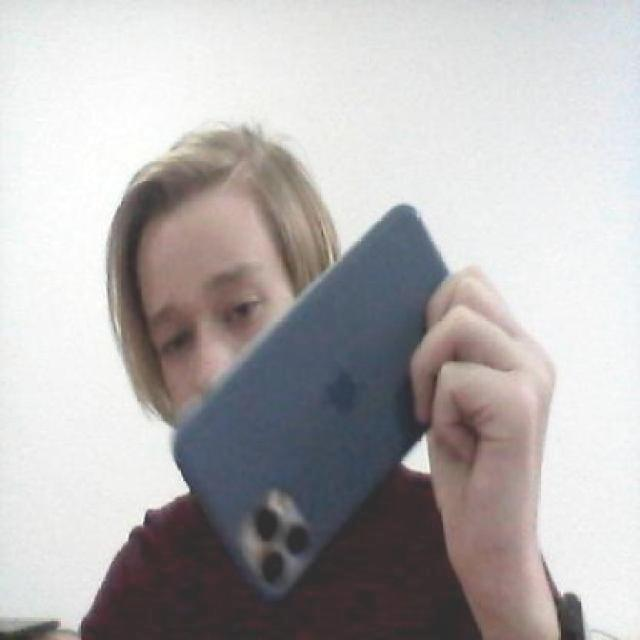lens: (246, 494, 314, 588)
phone: (166, 201, 483, 616)
